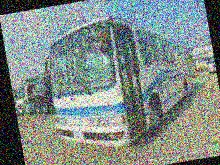bus: (36, 0, 210, 160)
